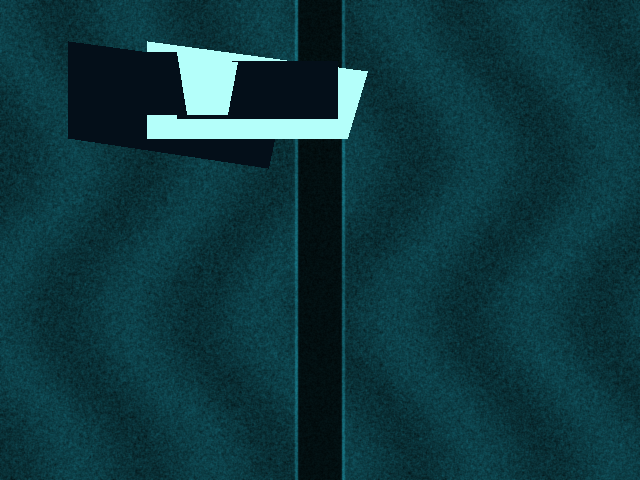Other Man-made Debris: (177, 52, 237, 114)
Ship/Boat Debris: (147, 41, 367, 138)
